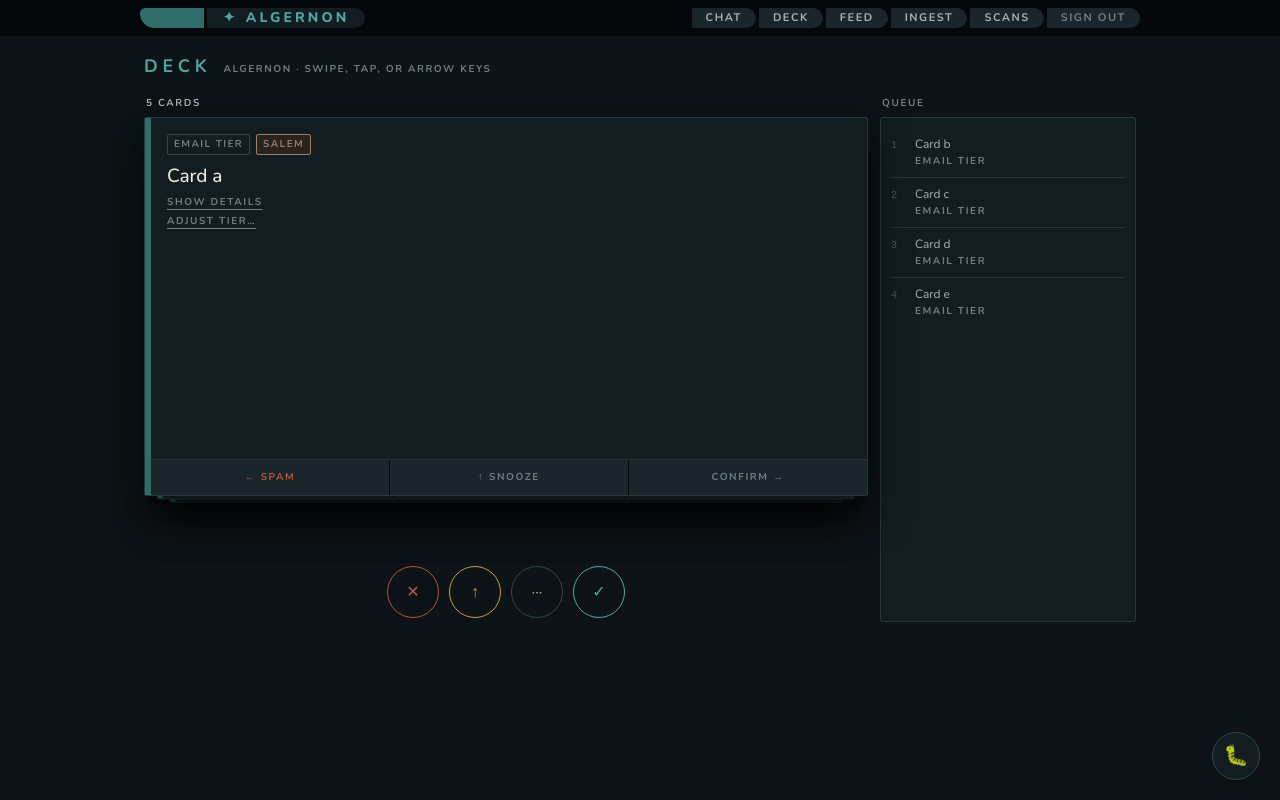
Scenario: a resume must not strand the cursor › cards still open after a resume are still DEALT, not declared clear
Check: the element with test id "deck-card" is shown, box x1=144 y1=117 x2=868 y2=496
Click the button with test id "deck-btn-affirm": (599, 592) x1=573 y1=566 x2=625 y2=618
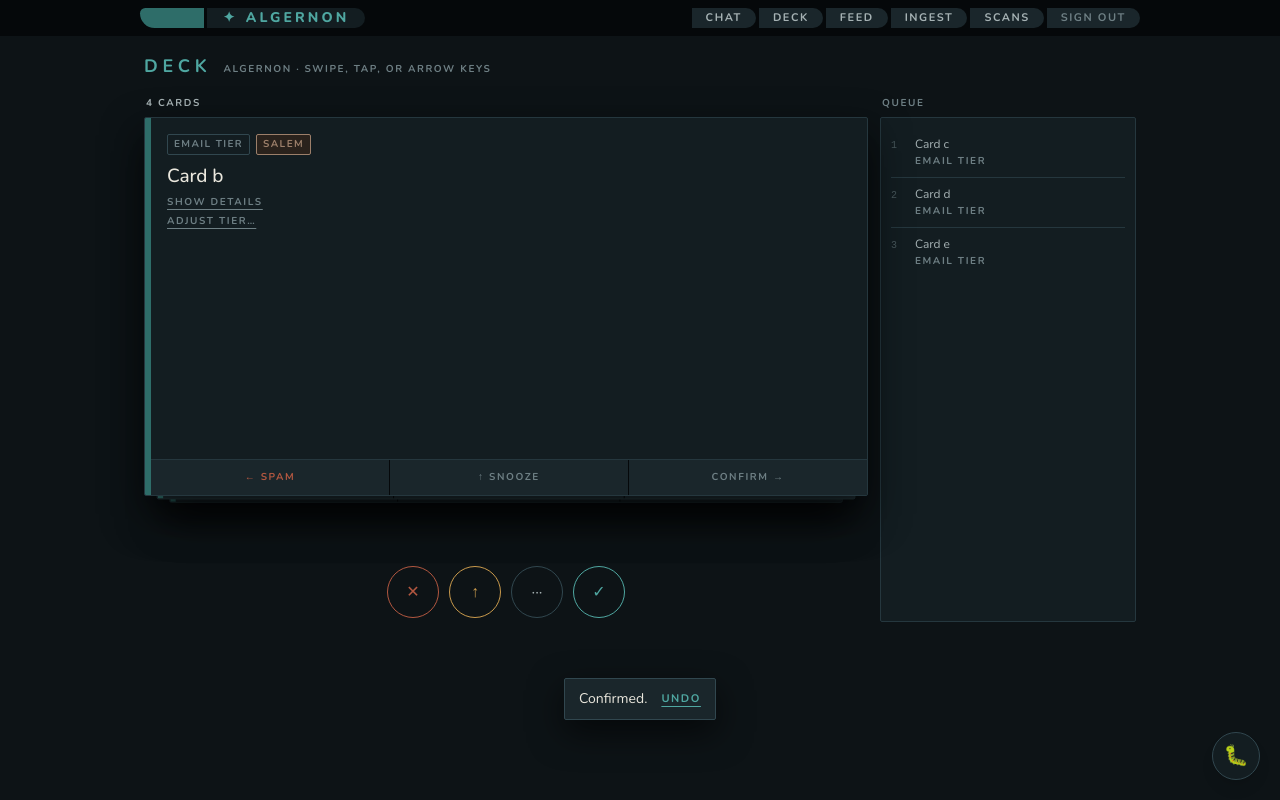
Click the button with test id "deck-btn-affirm": (599, 592) x1=573 y1=566 x2=625 y2=618
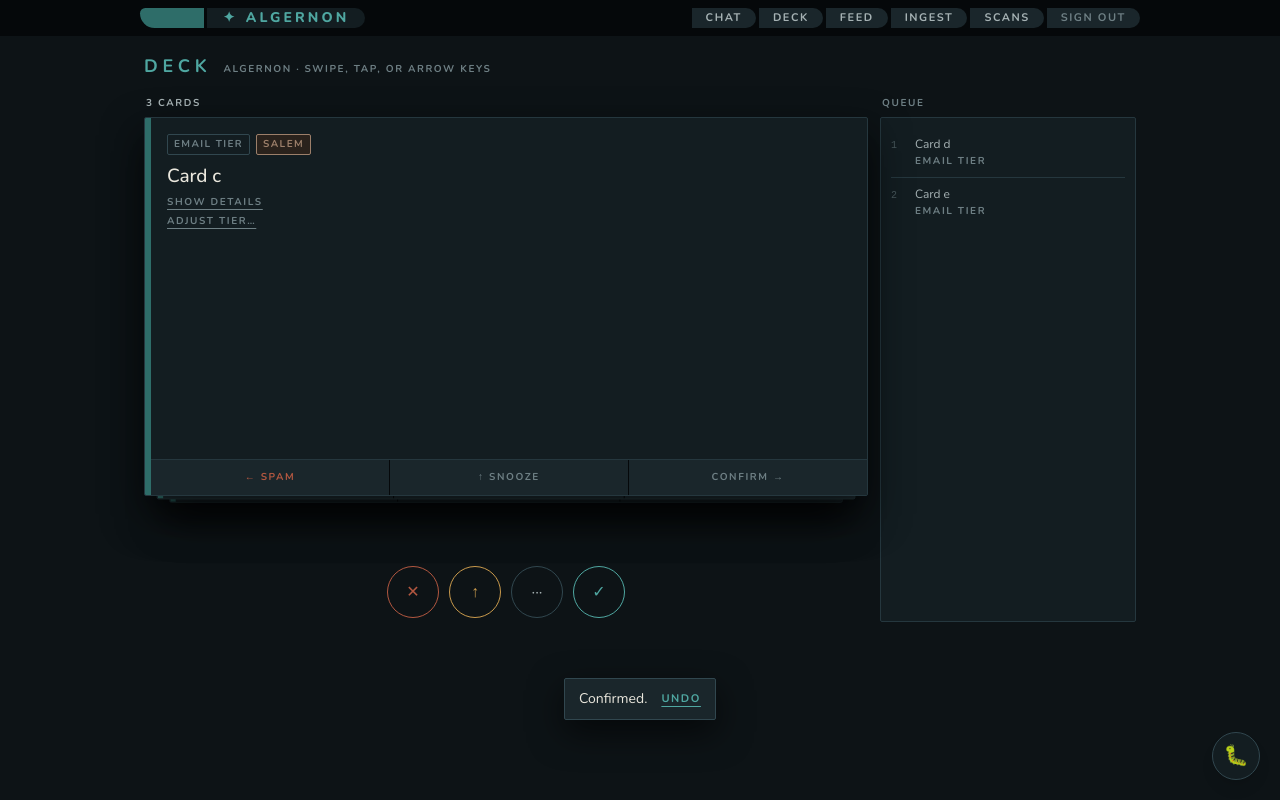
Click the button with test id "deck-btn-affirm": (599, 592) x1=573 y1=566 x2=625 y2=618
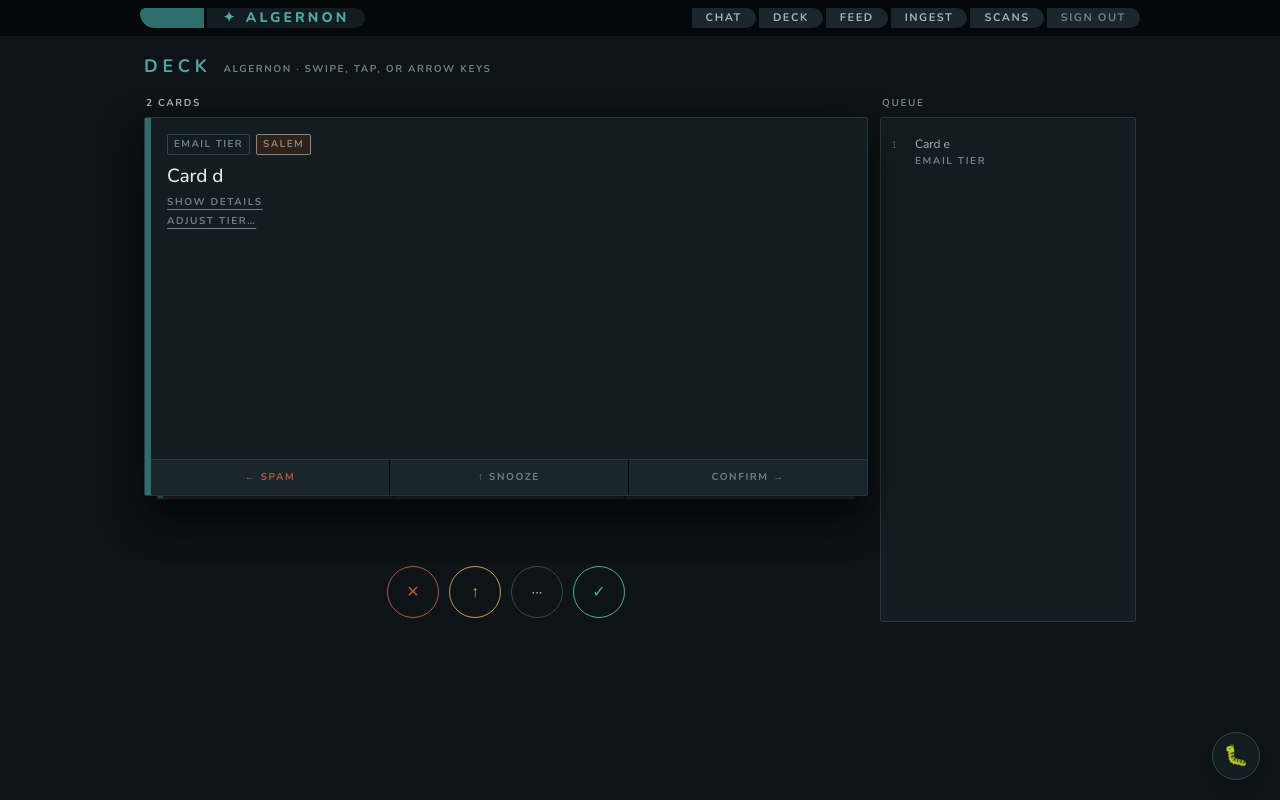
Check: the text with test id "deck-count" reads "2 cards", box x1=146 y1=96 x2=201 y2=110
